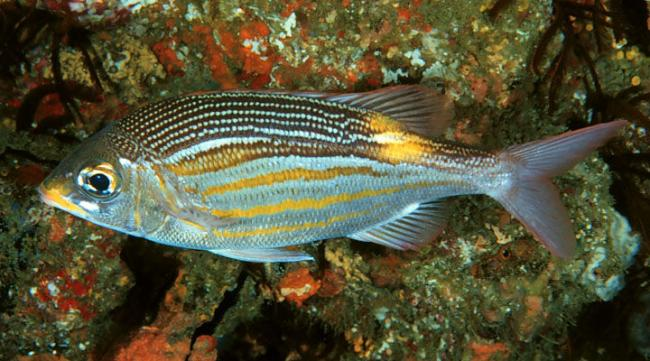fish: (38, 84, 632, 264)
